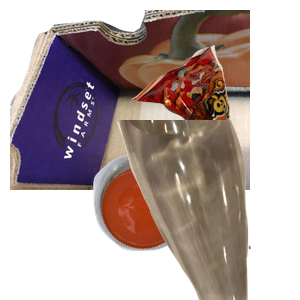cardboard: (10, 10, 250, 190)
glass: (115, 120, 300, 300)
plastic: (91, 152, 281, 300)
trash: (130, 43, 300, 190)
